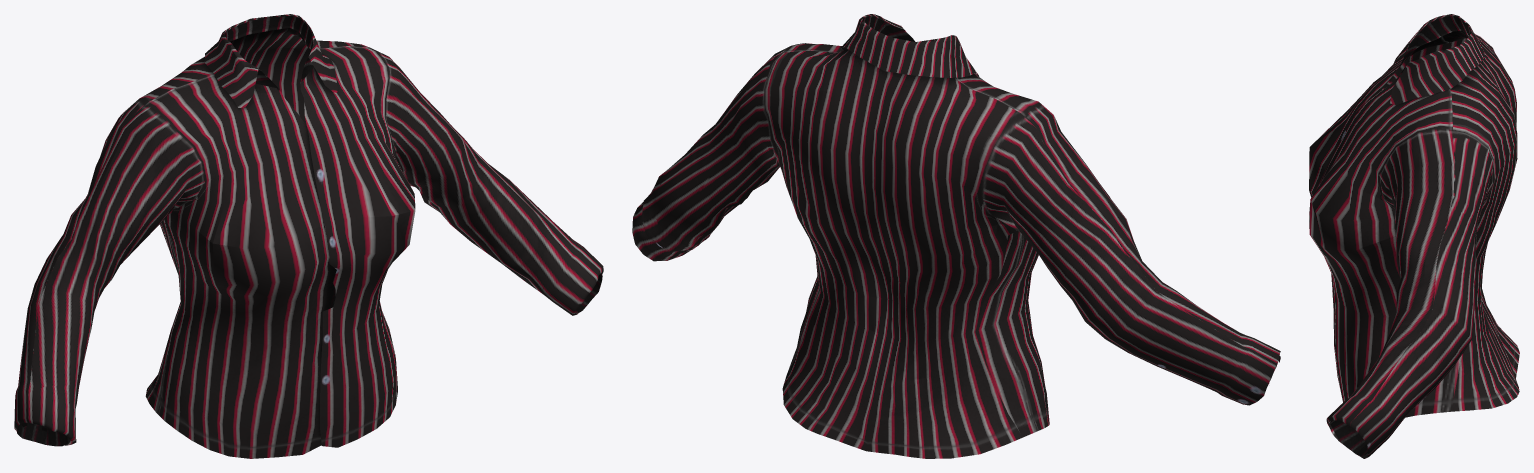
Rendered from LM_SMF.dae.
3 renders of one model, left to right at view 1: azimuth 30°, elevation 25°; view 2: azimuth 150°, elevation 25°; view 3: azimuth 270°, elevation 25°, orthographic. The views are drawn at different scales.
Visible parts, largest first — view 1: shirt01Mesh; view 2: shirt01Mesh; view 3: shirt01Mesh.
Part boxes in pixels (x1,y1,x2,y2): shirt01Mesh: [14, 14, 603, 458]; shirt01Mesh: [632, 14, 1280, 458]; shirt01Mesh: [1309, 14, 1519, 458].
Size of the model in its own units: 8.62 by 5.43 by 2.83.
